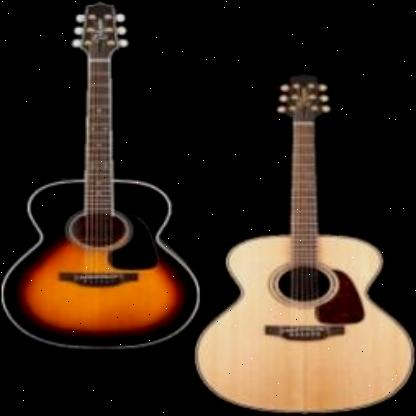acousticguitar: (198, 79, 408, 410), (1, 5, 196, 349)
